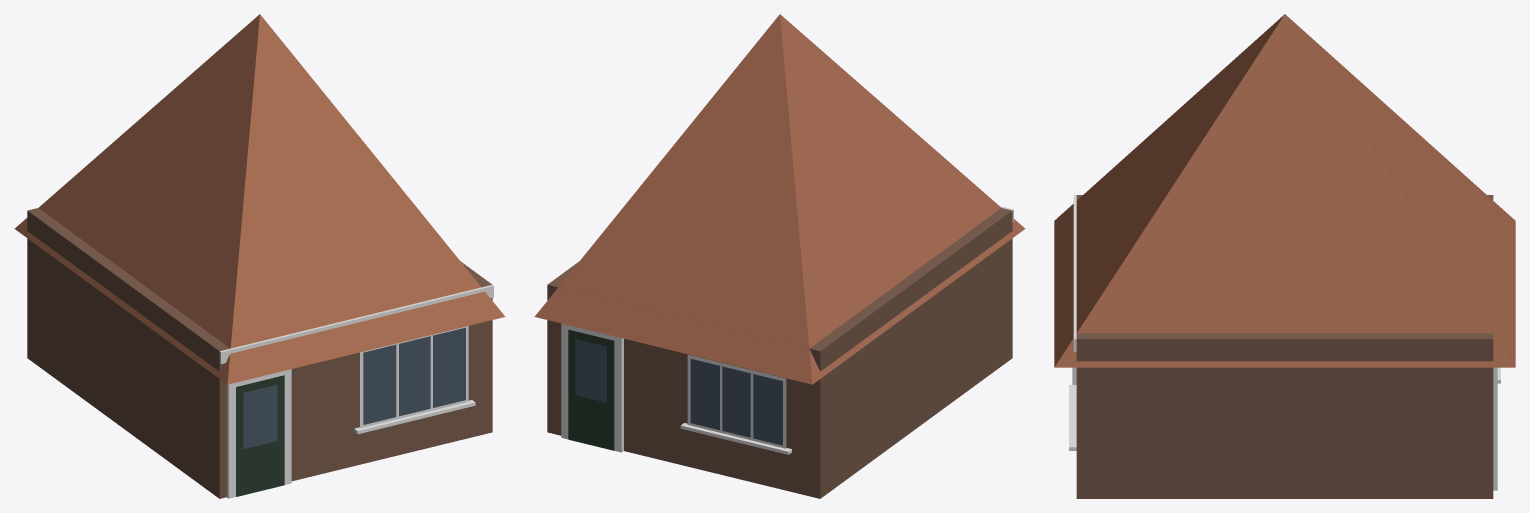
The model's file is nd-to-cottage__green-door__2__hip__long__solid__f0d0.glb.
The picture shows the model from 3 angles, left to right: view 1: azimuth 30°, elevation 25°; view 2: azimuth 150°, elevation 25°; view 3: azimuth 270°, elevation 25°; orthographic projection. The views are drawn at different scales.
Visible parts, largest first — view 1: nd-to-cottage__green-door__2__hip__long__solid__f0d0; view 2: nd-to-cottage__green-door__2__hip__long__solid__f0d0; view 3: nd-to-cottage__green-door__2__hip__long__solid__f0d0.
Part boxes in pixels (left/top/right/bottom): nd-to-cottage__green-door__2__hip__long__solid__f0d0: left=14, top=14, right=505, bottom=498; nd-to-cottage__green-door__2__hip__long__solid__f0d0: left=534, top=14, right=1025, bottom=498; nd-to-cottage__green-door__2__hip__long__solid__f0d0: left=1054, top=14, right=1515, bottom=498.
Bounding box in the file's own units: 5.42 × 7.1 × 7.19.
